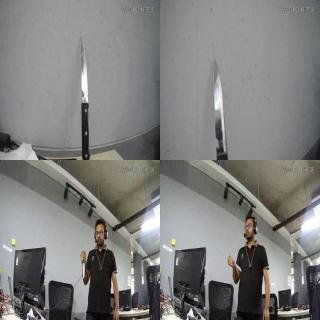knife: (78, 30, 100, 160), (206, 57, 232, 159), (233, 258, 243, 274), (80, 258, 86, 280)
